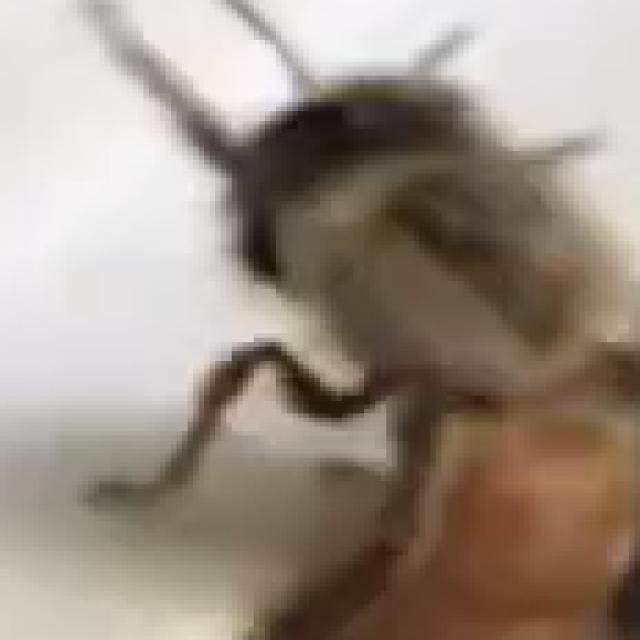honeybee: (78, 0, 634, 640)
